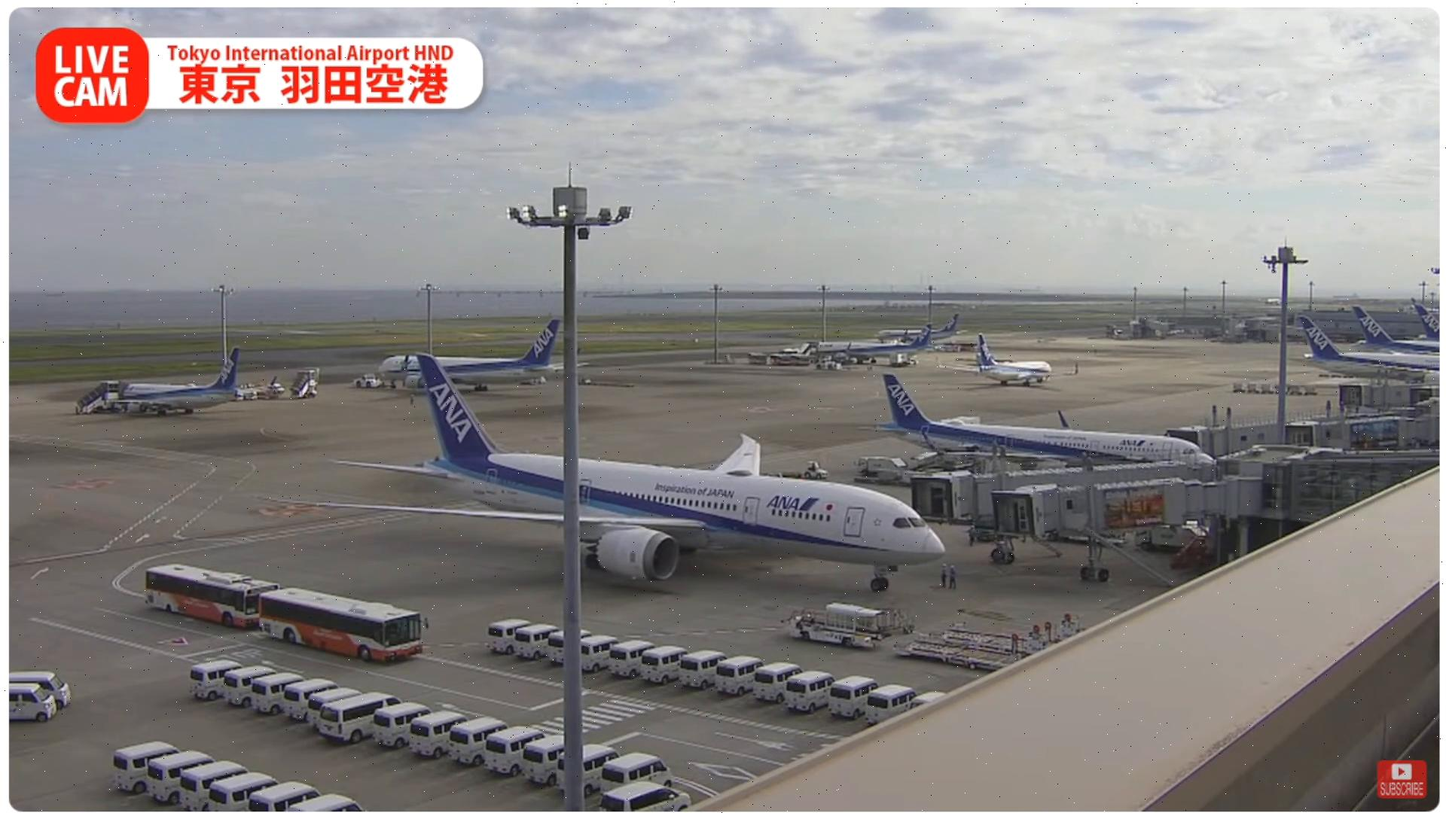Aerobridge: (908, 457, 1217, 523), (991, 476, 1264, 540)
Airplane: (313, 355, 945, 592)
JCPL: (895, 622, 1042, 671), (934, 610, 1089, 654)
Skyloader: (788, 603, 887, 651)
Window: (1290, 454, 1441, 526)
